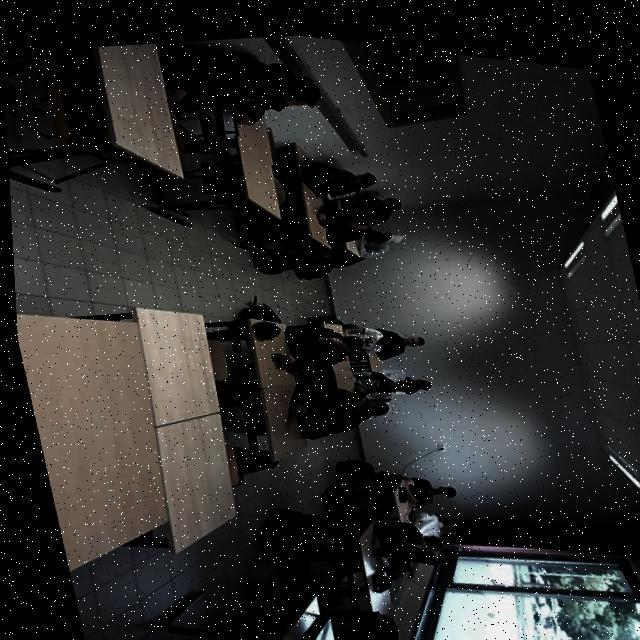phone_use: (290, 366, 395, 437), (359, 509, 441, 585), (304, 187, 374, 245), (351, 364, 430, 399), (339, 323, 402, 358), (393, 476, 454, 512), (337, 190, 399, 222), (345, 227, 402, 256)
